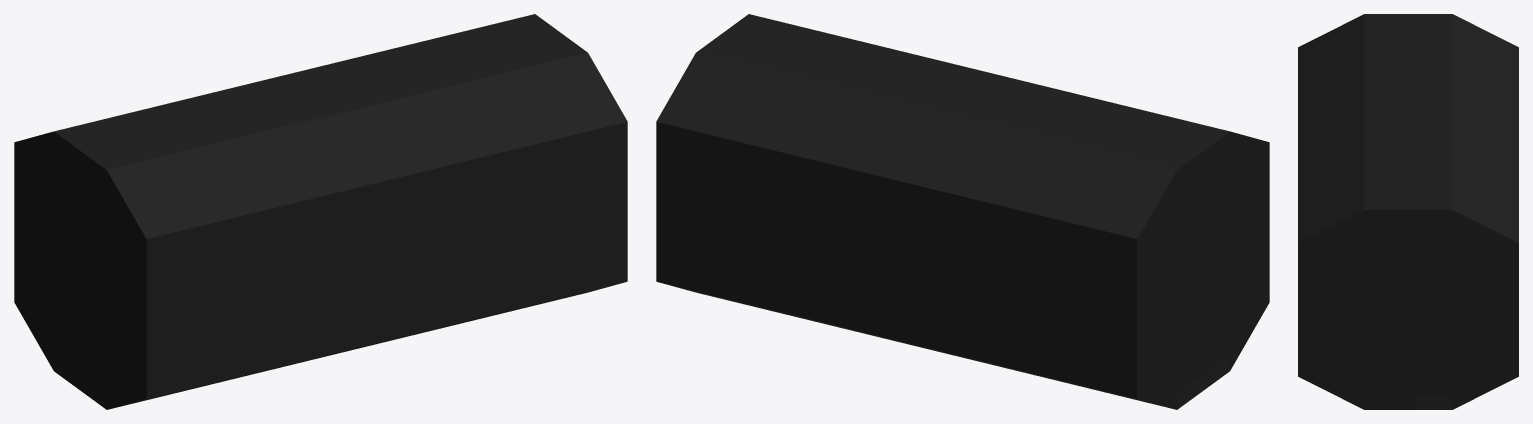
The model's file is shotgun_suppressor.obj.
3 renders of one model, left to right at view 1: azimuth 30°, elevation 25°; view 2: azimuth 150°, elevation 25°; view 3: azimuth 270°, elevation 25°, orthographic. The views are drawn at different scales.
Visible parts, largest first — view 1: suppressor_1, suppressor, suppressor_2; view 2: suppressor_2, suppressor, suppressor_1; view 3: suppressor, suppressor_1, suppressor_2.
Part boxes in pixels (x1,y1,x2,y2): suppressor_1: (106, 53, 627, 409); suppressor: (54, 14, 587, 409); suppressor_2: (14, 131, 53, 370); suppressor_2: (656, 53, 1177, 409); suppressor: (696, 14, 1229, 409); suppressor_1: (1230, 131, 1269, 370); suppressor: (1364, 14, 1452, 409); suppressor_1: (1298, 14, 1364, 409); suppressor_2: (1452, 14, 1518, 409).
Size of the model in its own units: 3.15 by 1.5 by 1.5.
